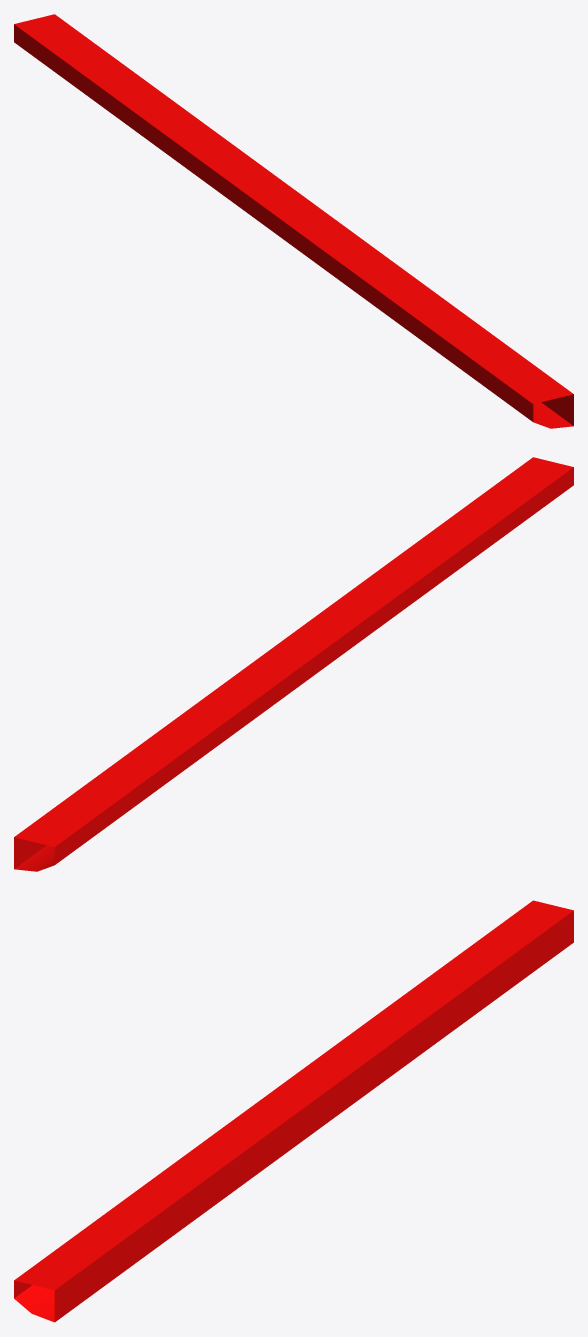
The model's file is K800_TAIL_R.glb.
3 views of the same model, one above another, from view 1: azimuth 30°, elevation 25°; view 2: azimuth 150°, elevation 25°; view 3: azimuth 330°, elevation 25° (orthographic).
Visible parts, largest first — view 1: obj1; view 2: obj1; view 3: obj1.
Part boxes in pixels (x1,y1,x2,y2): obj1: (14,14,573,428); obj1: (14,457,573,871); obj1: (14,900,573,1322).
Bounding box in the file's own units: 0.7257 × 0.5456 × 16.
1 material, 1 textured.
